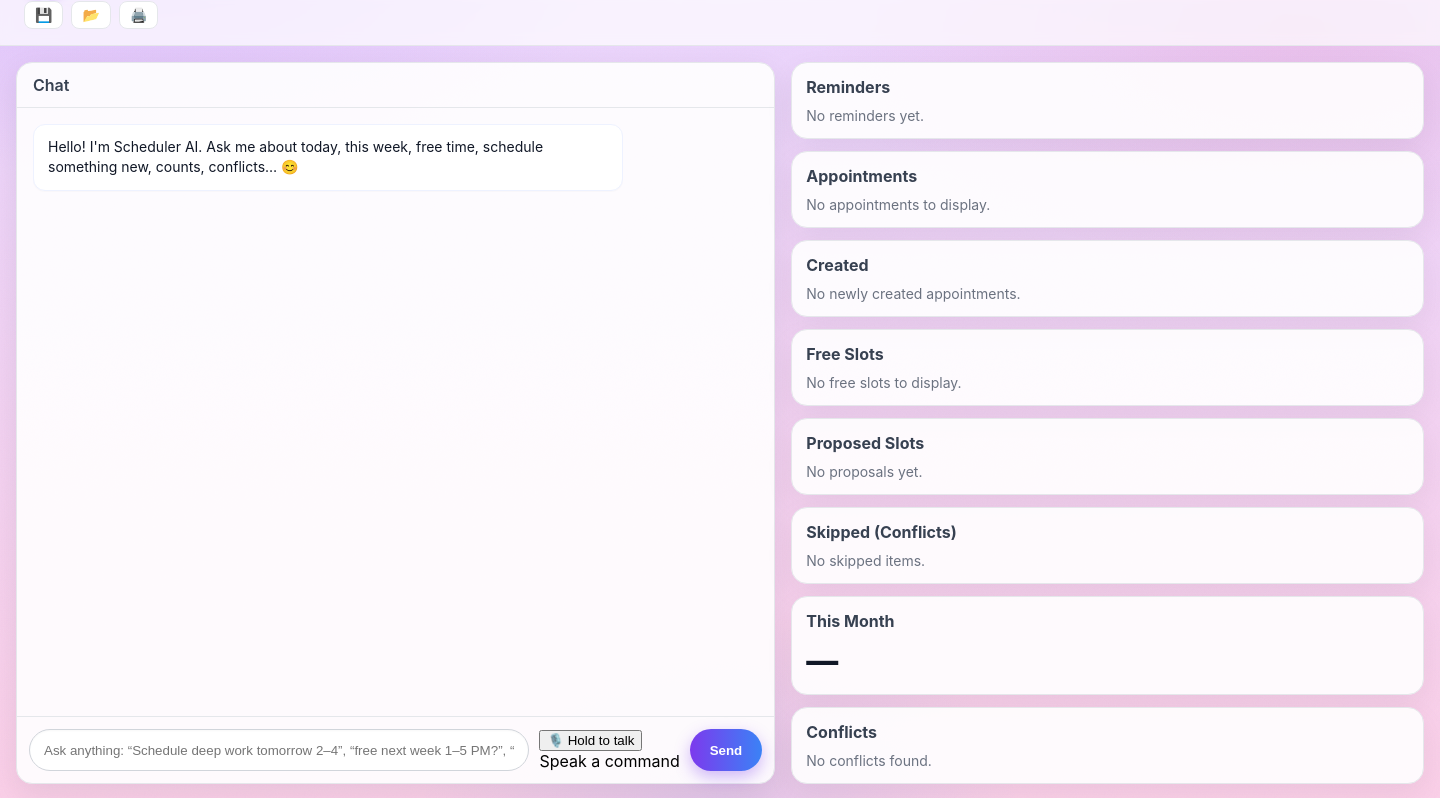
Scenario: recurring preview (flat array under data.preview) renders in Proposed Slots (regression)
(page scrolled)
Type "preview standup every Monday at 10am for 3 weeks" into the field with placeholder "Ask anything".
click(279, 750); type("preview standup every Monday at 10am for 3 weeks")  # box [29,729,529,771]
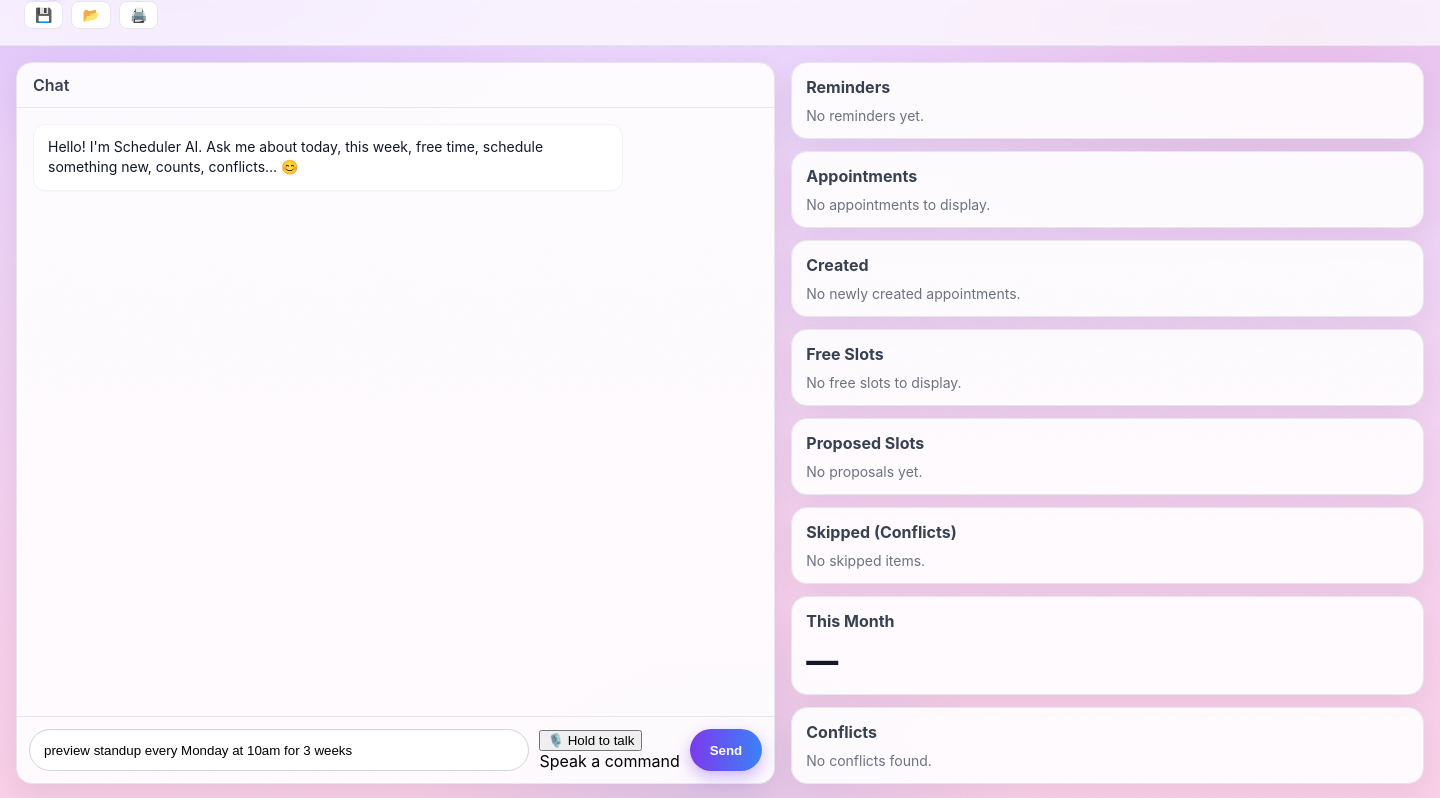
Click the button "Send".
click(726, 750)  # box [690,729,762,771]
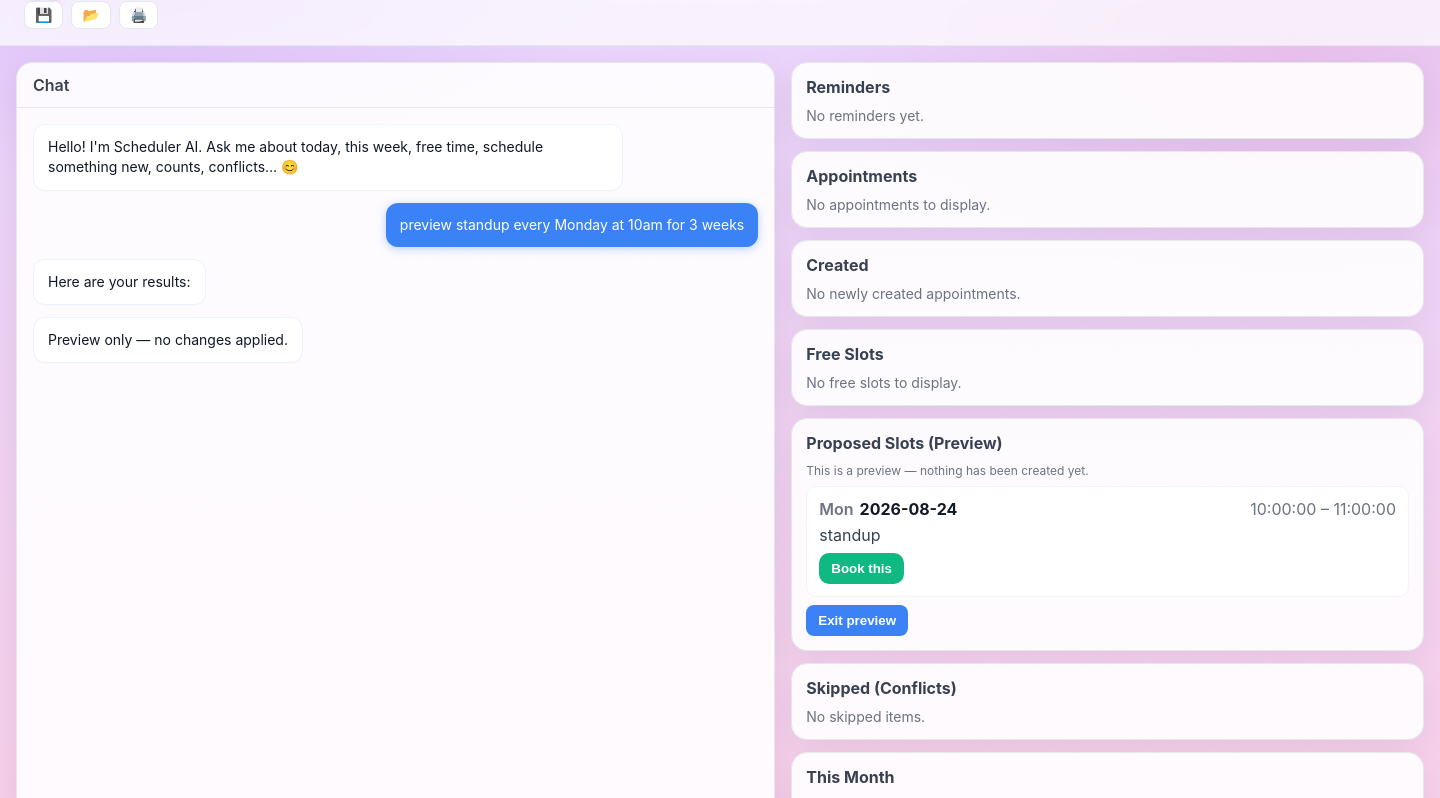
Expected: the text "standup" is shown, [819,525,881,545]
Expected: the button "Book this" is shown, [819,553,904,584]
